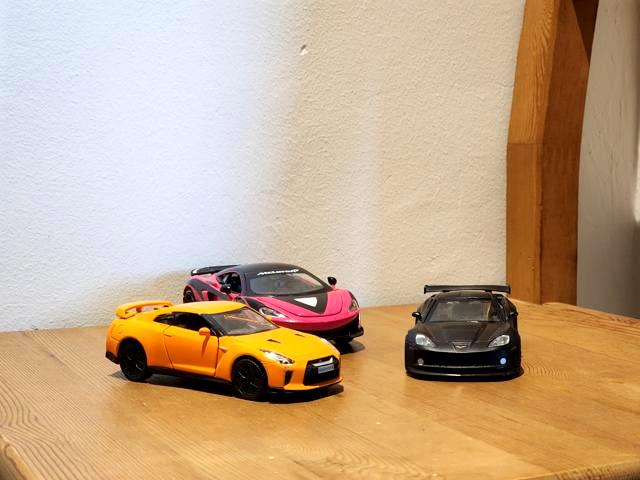toy-car: (104, 300, 343, 400), (182, 262, 365, 344), (404, 283, 521, 380)
